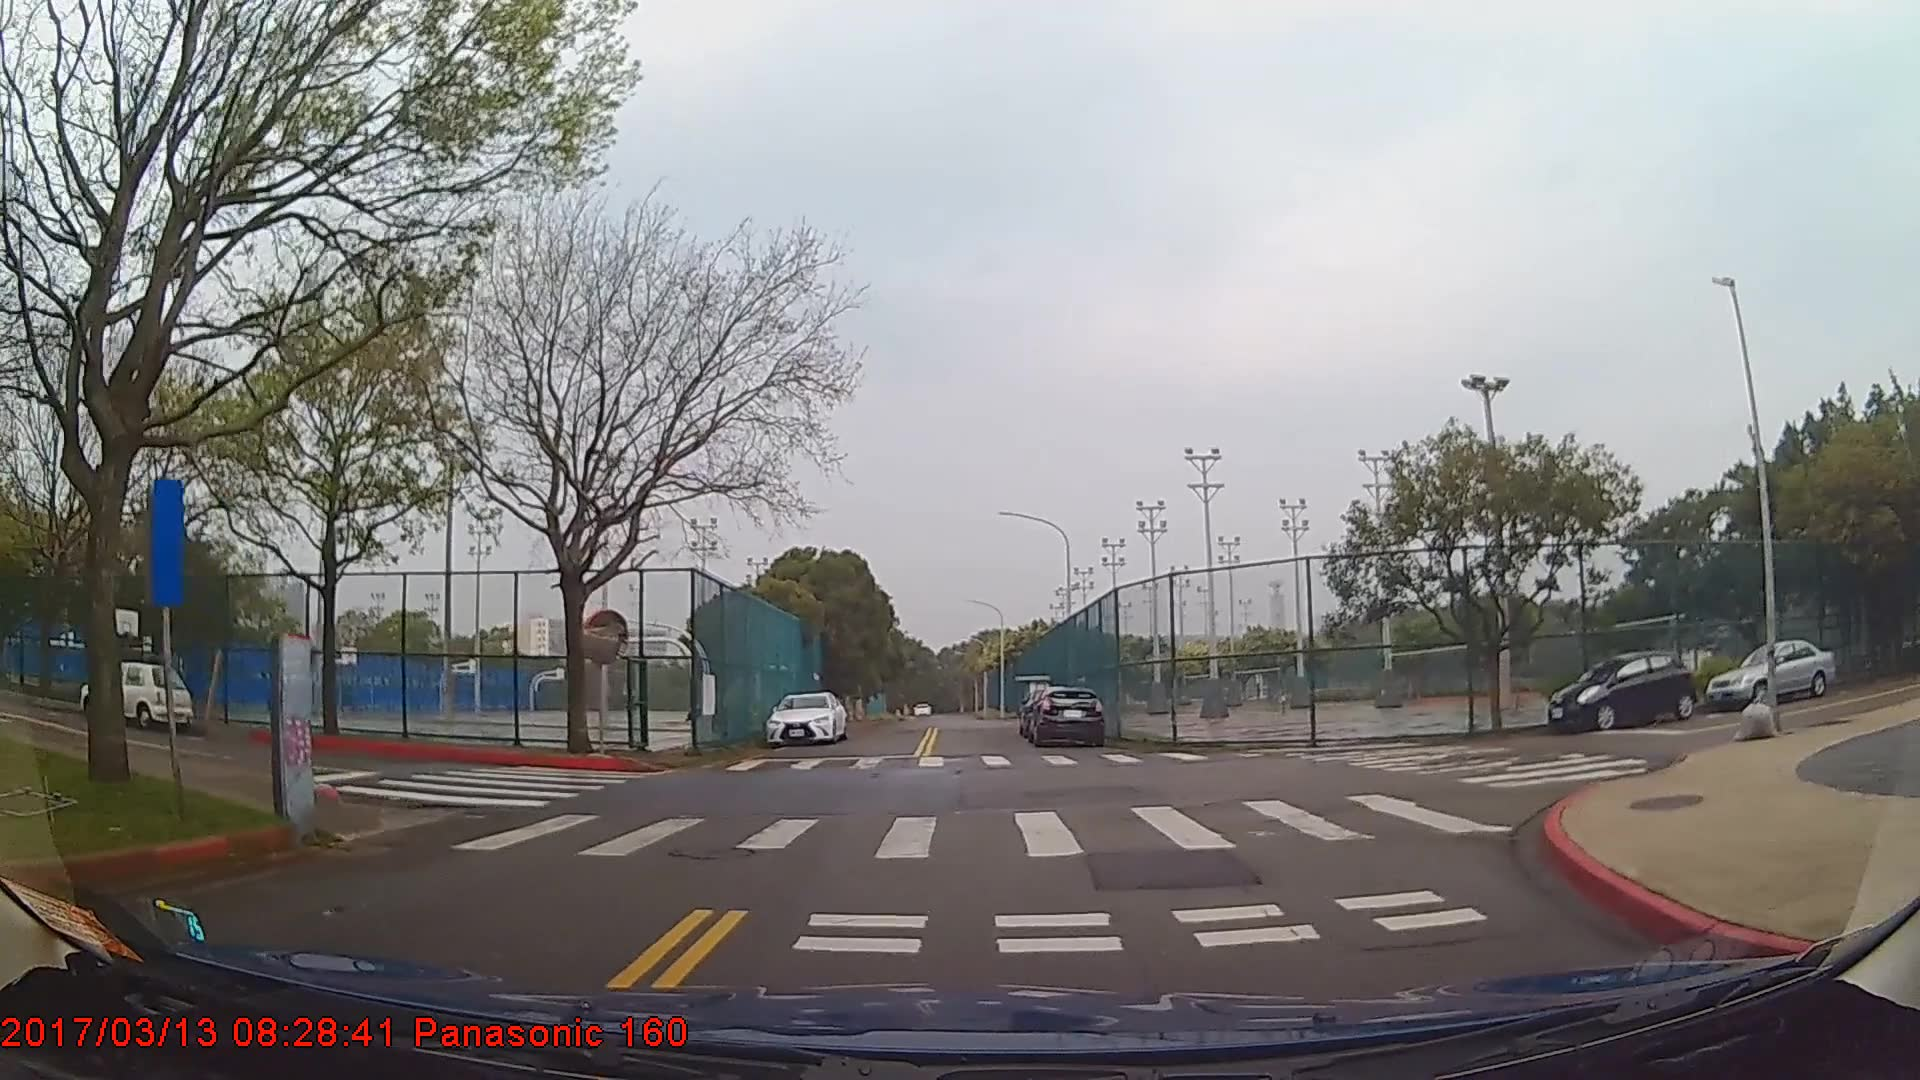vehicle: (1547, 650, 1696, 733), (1704, 640, 1836, 707), (80, 659, 193, 727), (1025, 687, 1104, 749), (766, 690, 847, 746)
